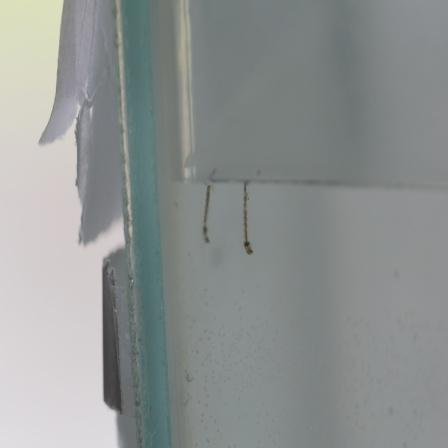Jentik-Nyamuk: (238, 177, 260, 262), (197, 180, 212, 247)
